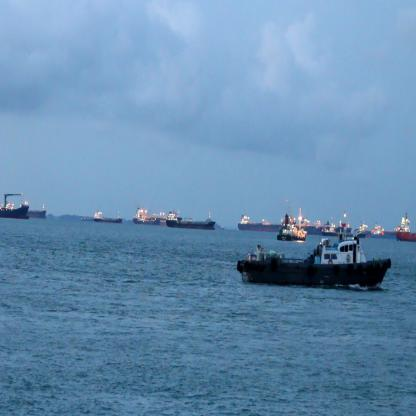Container Ship: (235, 228, 392, 294), (238, 197, 353, 235), (276, 208, 308, 242), (167, 207, 216, 229), (93, 197, 124, 225), (322, 219, 369, 237), (0, 192, 30, 220), (133, 206, 168, 226), (396, 211, 416, 242), (369, 220, 397, 238), (28, 204, 47, 220)
